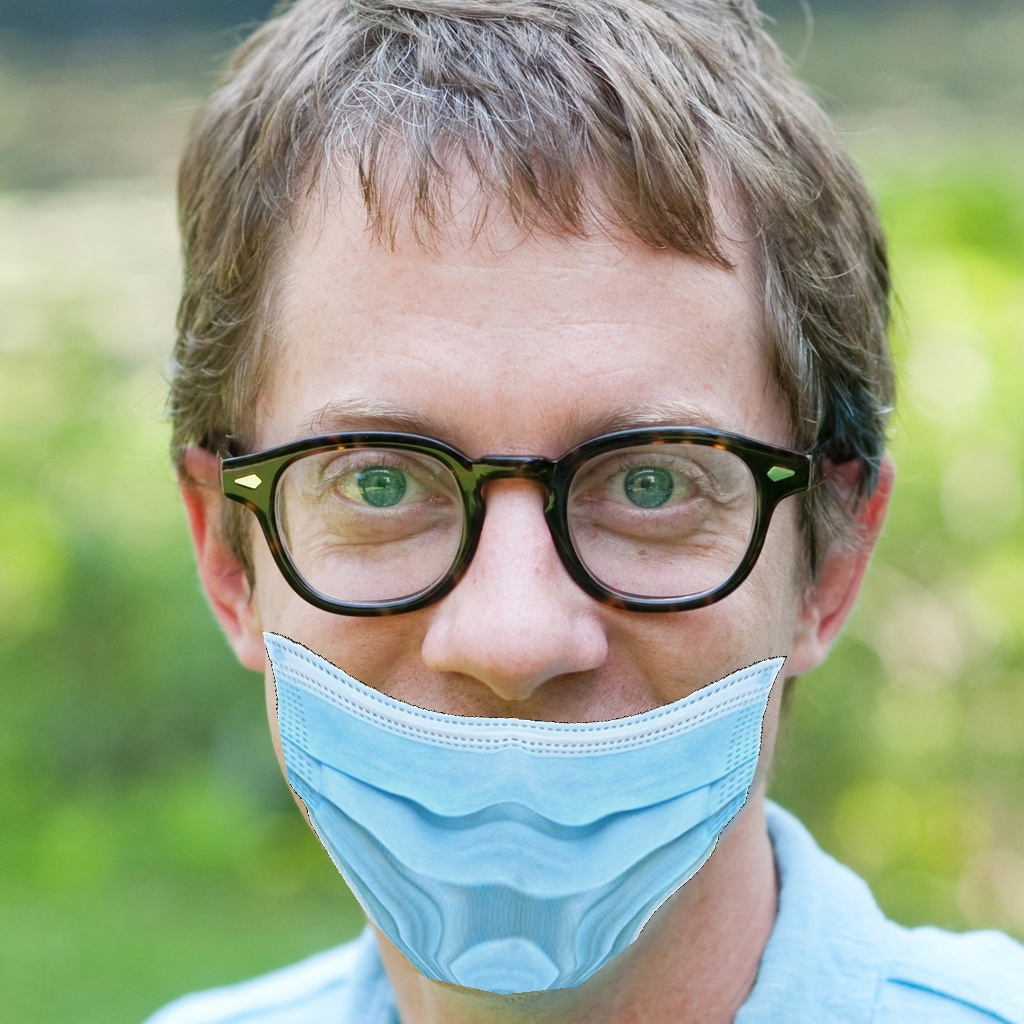mascarilla_mal_puesta: (244, 365, 837, 998)
